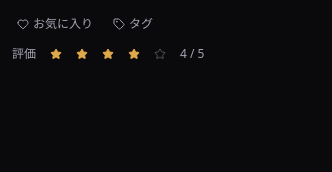
Test: #13 作品詳細ヘッダ（WorkMarksBar）のマーク › 保存に失敗したら楽観更新を戻してエラーを出す
This screenshot has width=332, height=172.
Click the button named "5 段階で評価" at coordinates (160, 54), box [148,42,172,66]
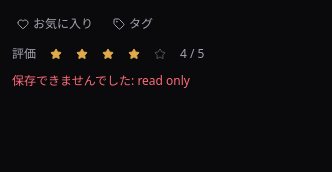
Expected: the text "4 / 5" is shown, [180,45,204,63]
Expected: the message shows "保存できませんでした", [12,72,190,89]
